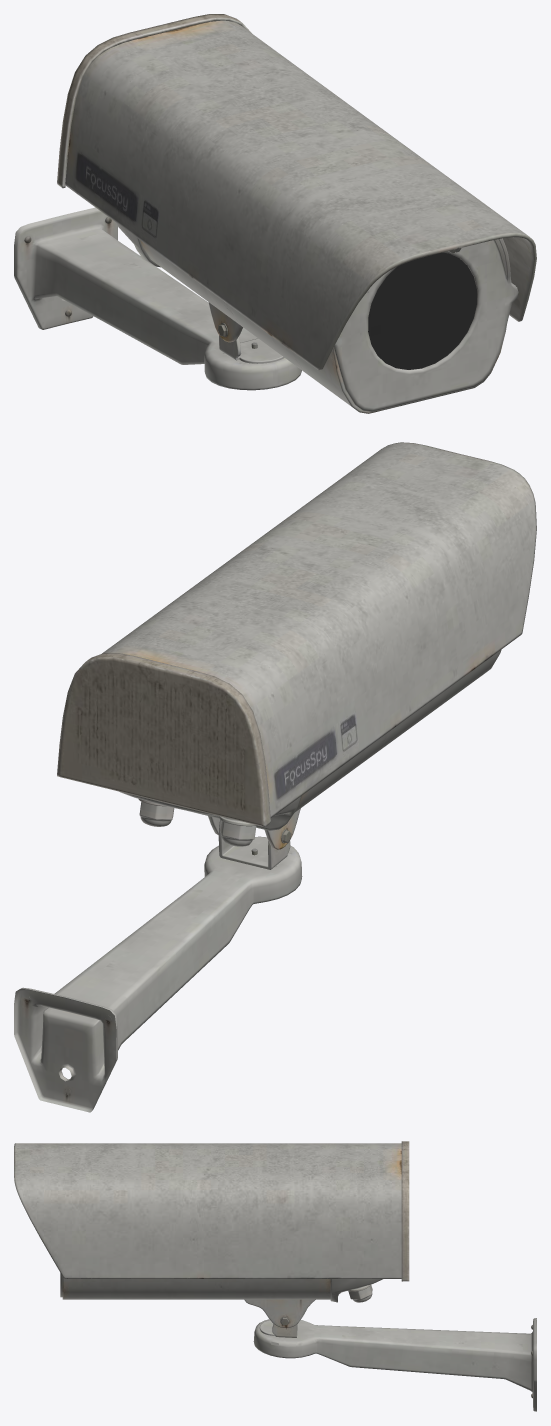
3 views of the same model, one above another, from view 1: azimuth 30°, elevation 25°; view 2: azimuth 150°, elevation 25°; view 3: azimuth 270°, elevation 25° (orthographic). The views are drawn at different scales.
Visible parts, largest first — view 1: security_camera_01; view 2: security_camera_01; view 3: security_camera_01.
Part boxes in pixels (x1,y1,x2,y2): security_camera_01: (14,14,536,413); security_camera_01: (14,442,536,1112); security_camera_01: (14,1141,536,1411).
Size of the model in its own units: 0.1696 by 0.286 by 0.5537.
Materials: 2 (2 with a texture image).
